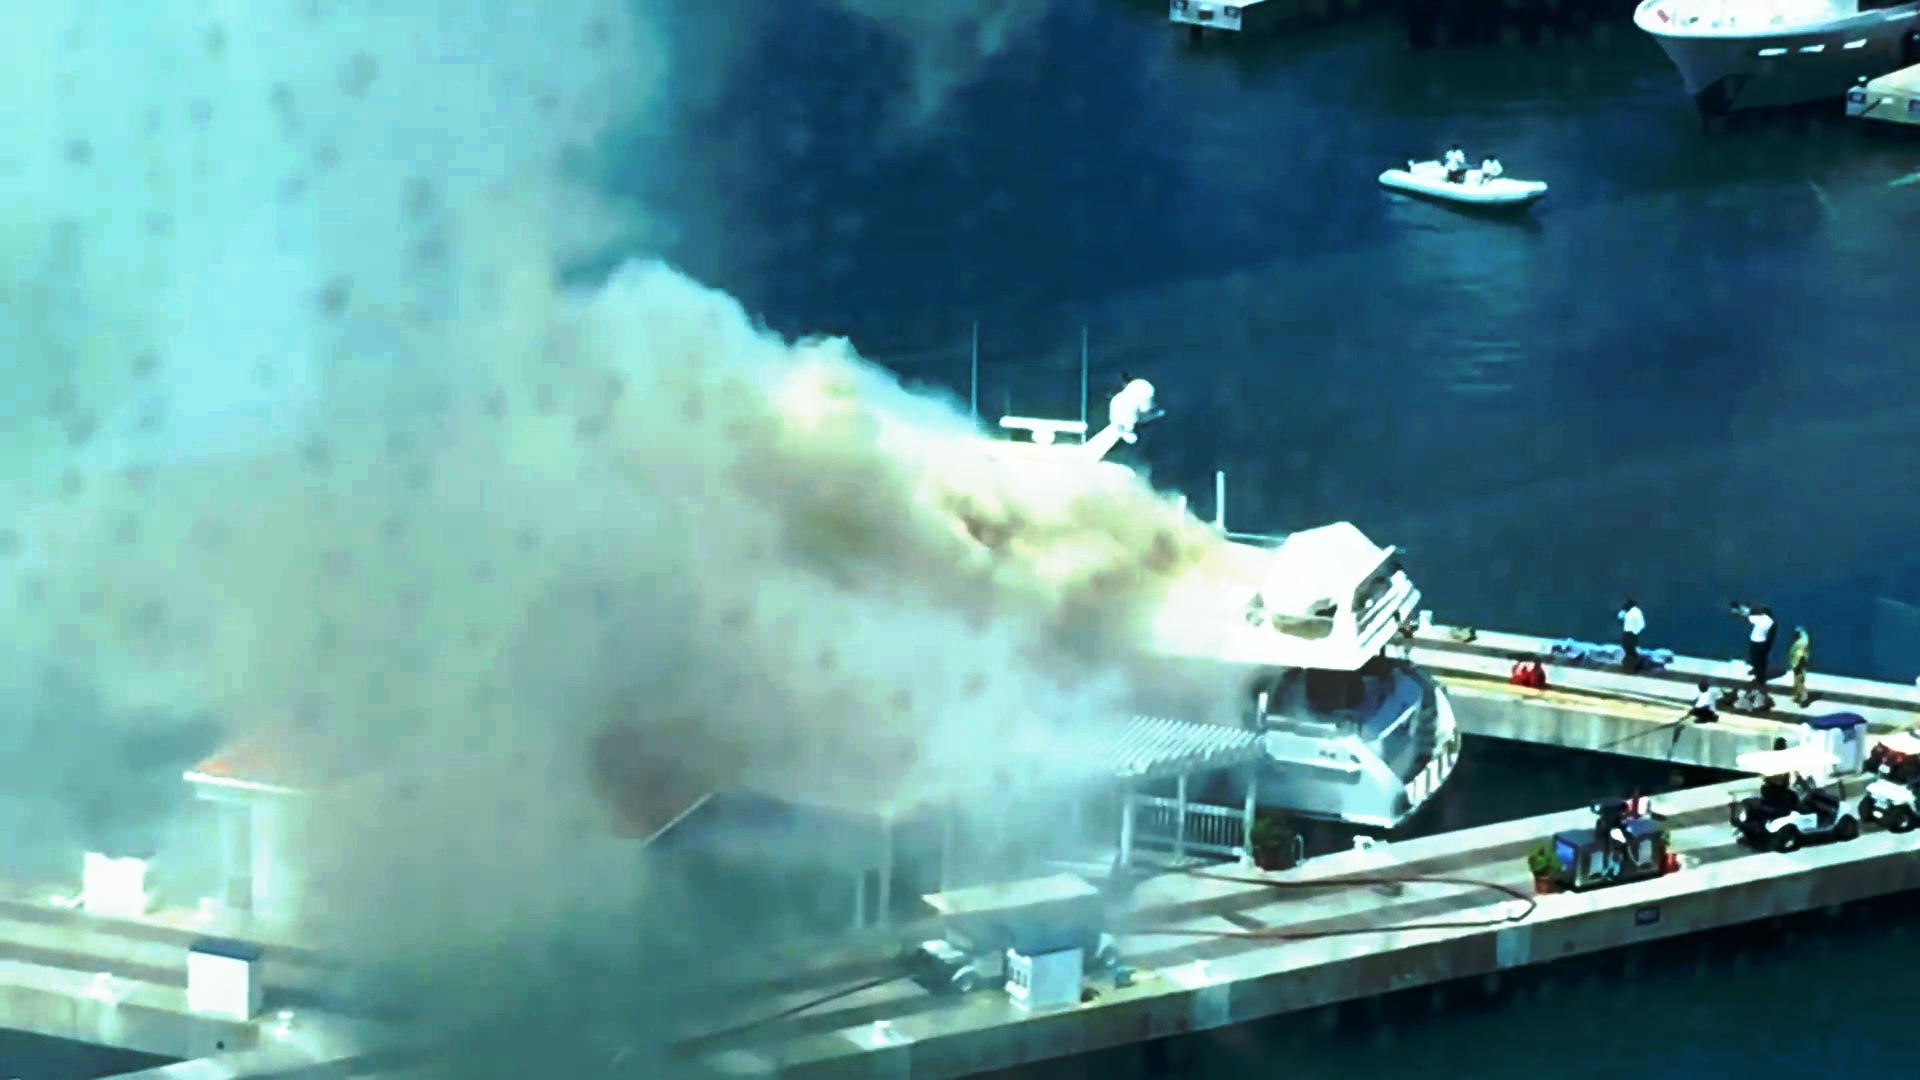smoke: (0, 21, 591, 687), (616, 323, 1221, 790), (309, 650, 713, 1046)
